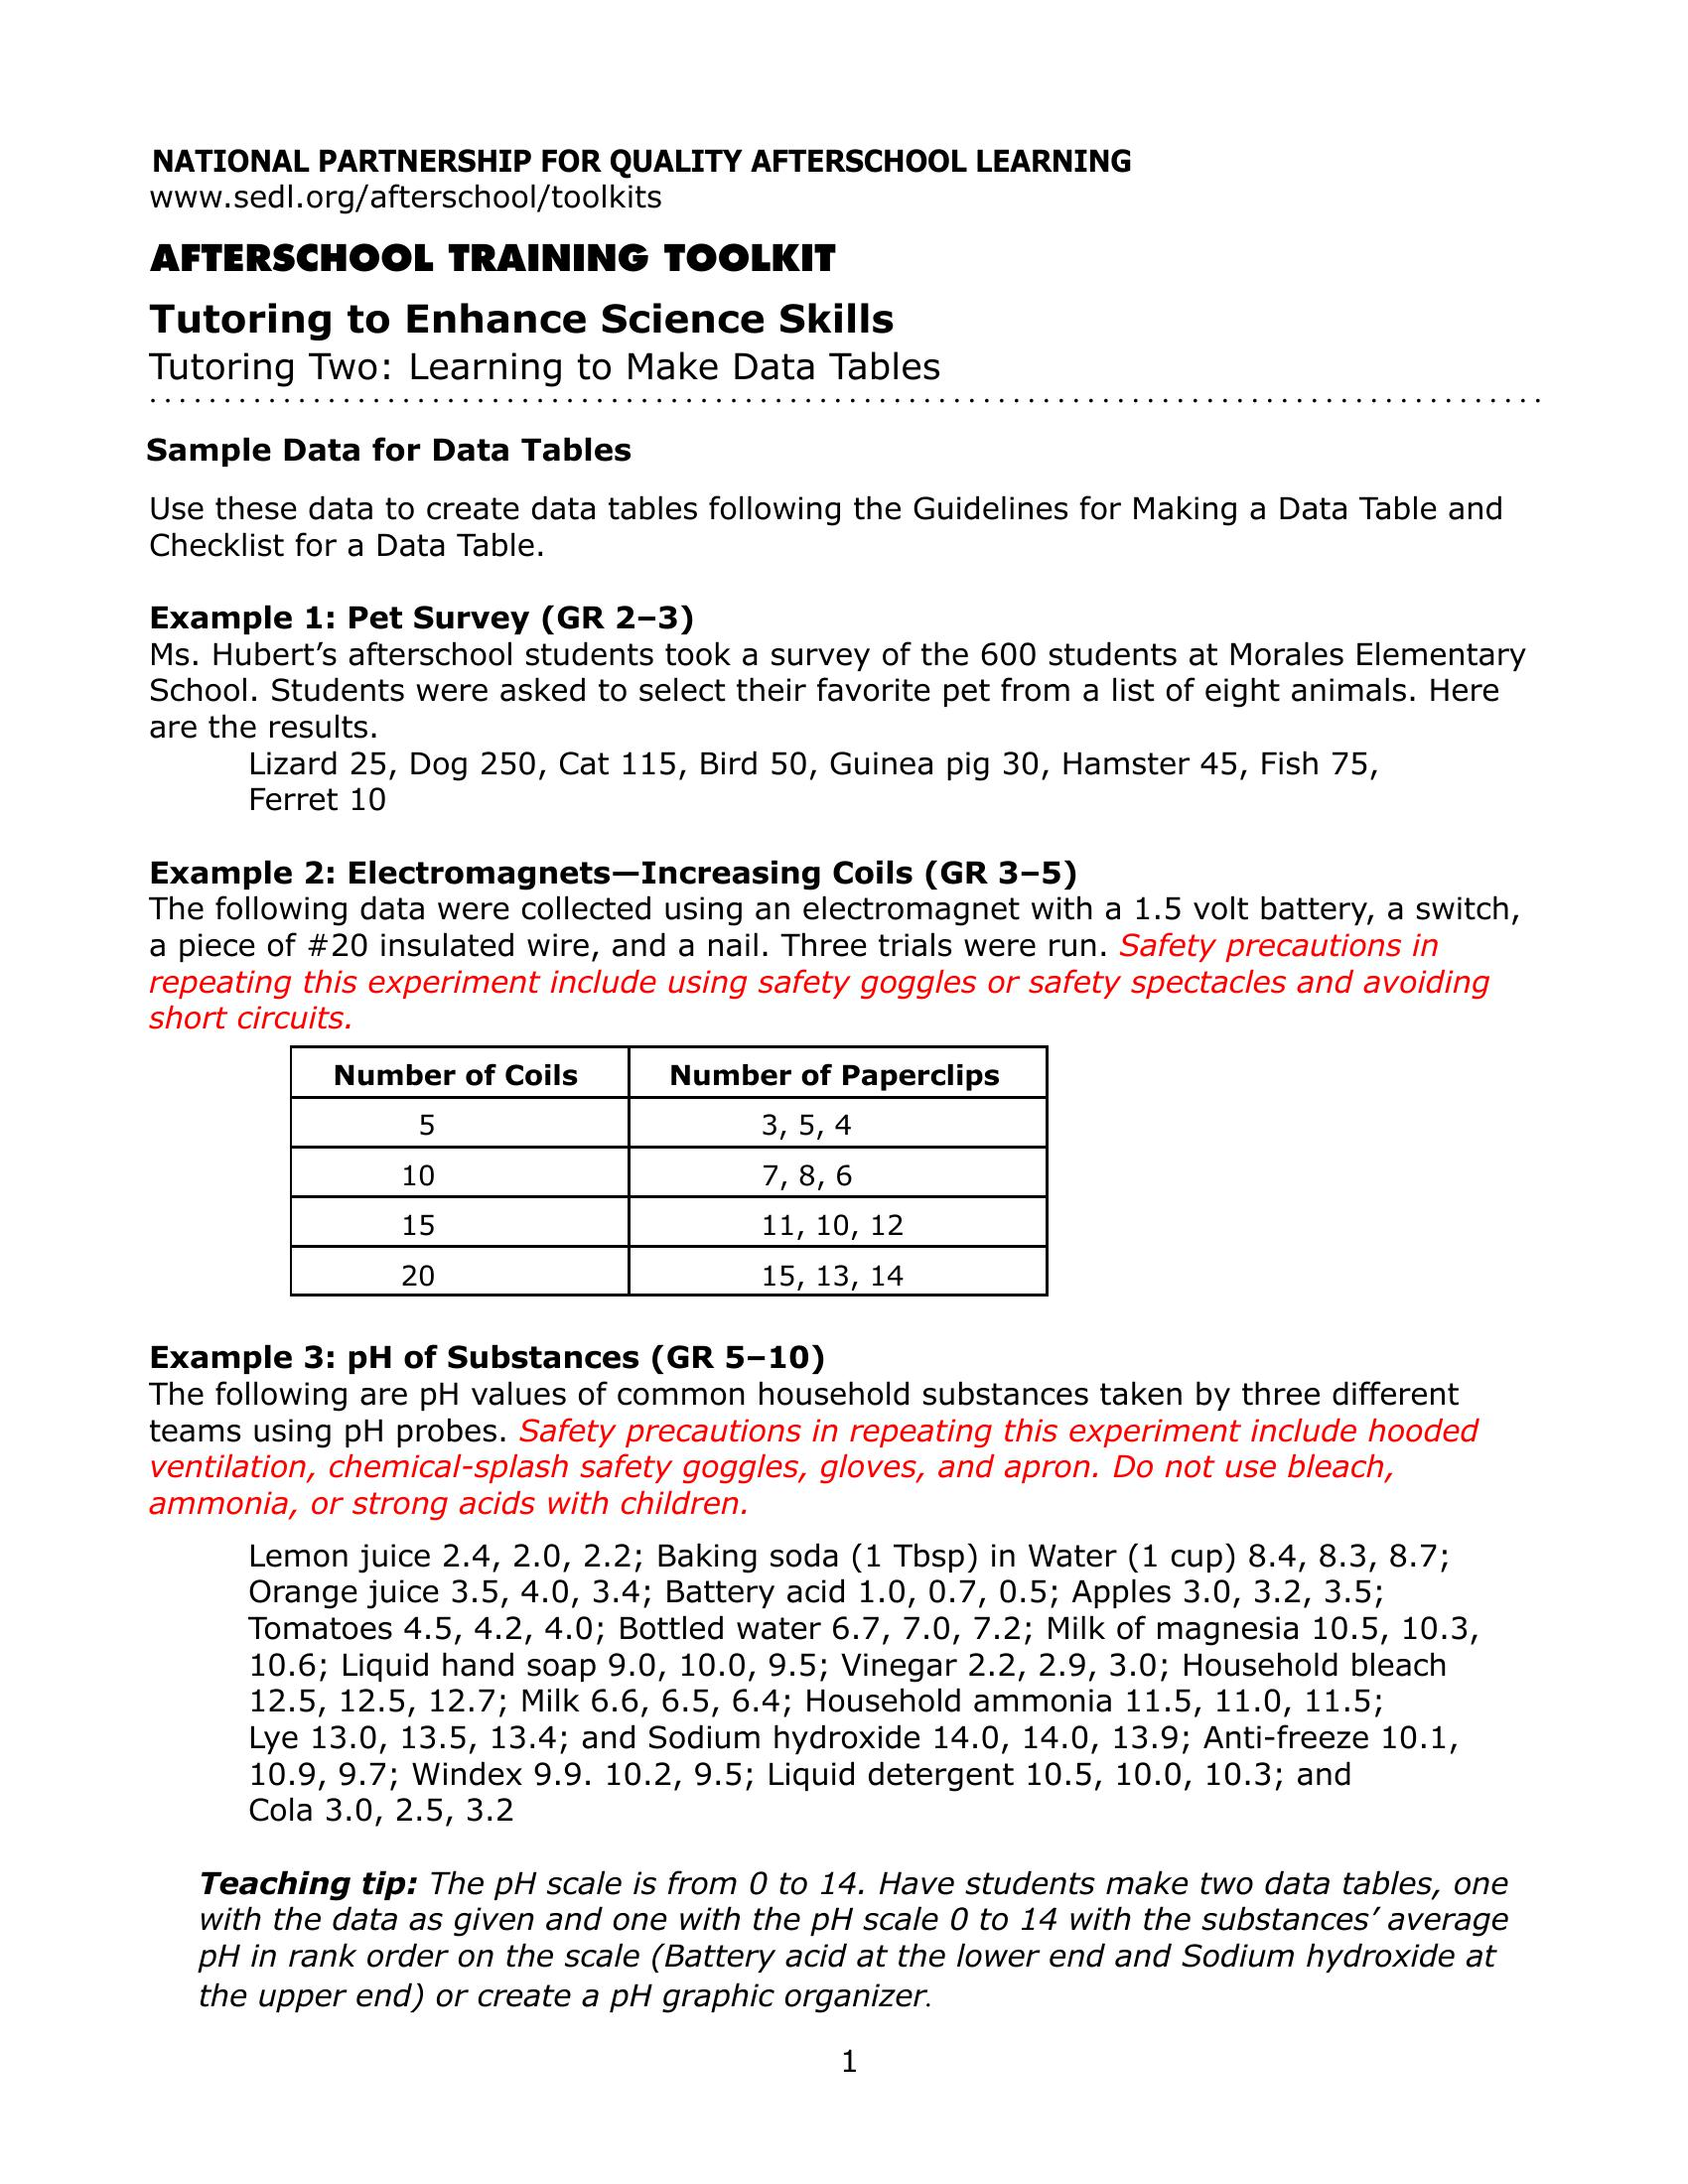table: (291, 1039, 1057, 1294)
